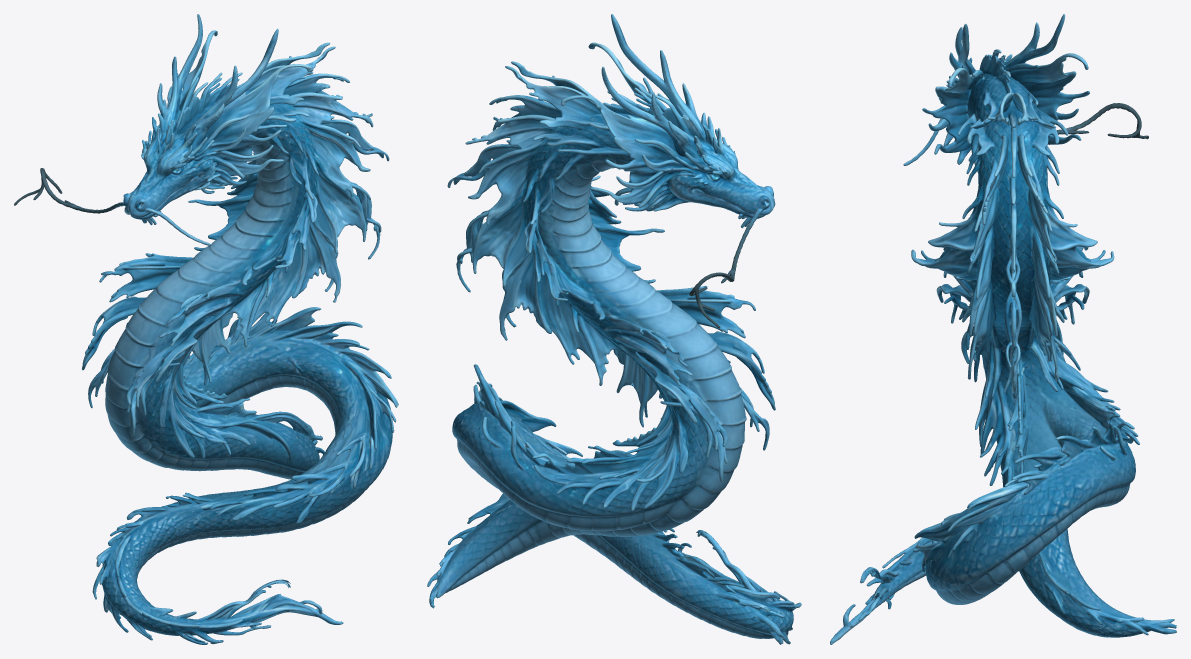
Rendered from tidefang.glb.
The picture shows the model from 3 angles, left to right: view 1: azimuth 30°, elevation 25°; view 2: azimuth 150°, elevation 25°; view 3: azimuth 270°, elevation 25°; orthographic projection. The views are drawn at different scales.
Visible parts, largest first — view 1: tripo_node_658435aa-a4b1-461b-a62e-dea1b0f6a52b; view 2: tripo_node_658435aa-a4b1-461b-a62e-dea1b0f6a52b; view 3: tripo_node_658435aa-a4b1-461b-a62e-dea1b0f6a52b.
Boxes of the visible parts, box(x1,y1,x2,y2) form: tripo_node_658435aa-a4b1-461b-a62e-dea1b0f6a52b: box(14, 14, 398, 644); tripo_node_658435aa-a4b1-461b-a62e-dea1b0f6a52b: box(427, 14, 801, 644); tripo_node_658435aa-a4b1-461b-a62e-dea1b0f6a52b: box(830, 14, 1176, 644).
Size of the model in its own units: 0.5706 by 0.9796 by 0.4854.
Materials: 1 (1 with a texture image).
